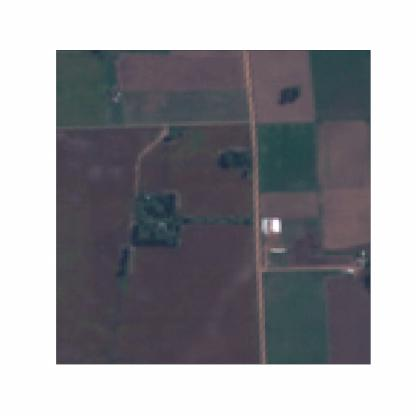silobolsa: (269, 247, 291, 253), (262, 215, 268, 235), (272, 218, 279, 234)
